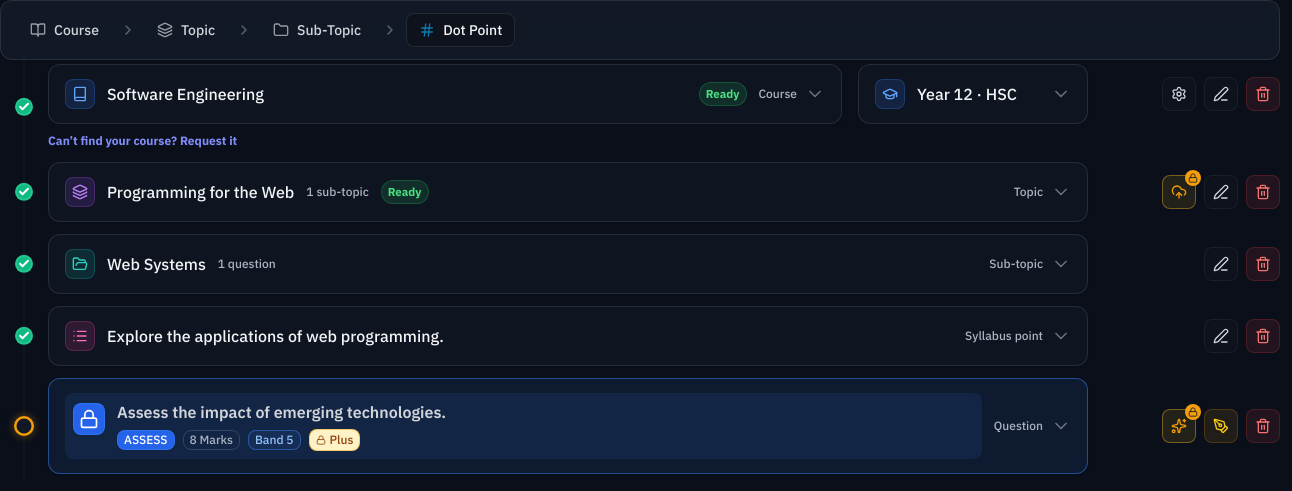
Test: the cleared-question notice, driven from the breadcrumb › names the level the Course crumb returns to
Click the button "Course".
click(64, 30)  # box [17, 13, 112, 47]
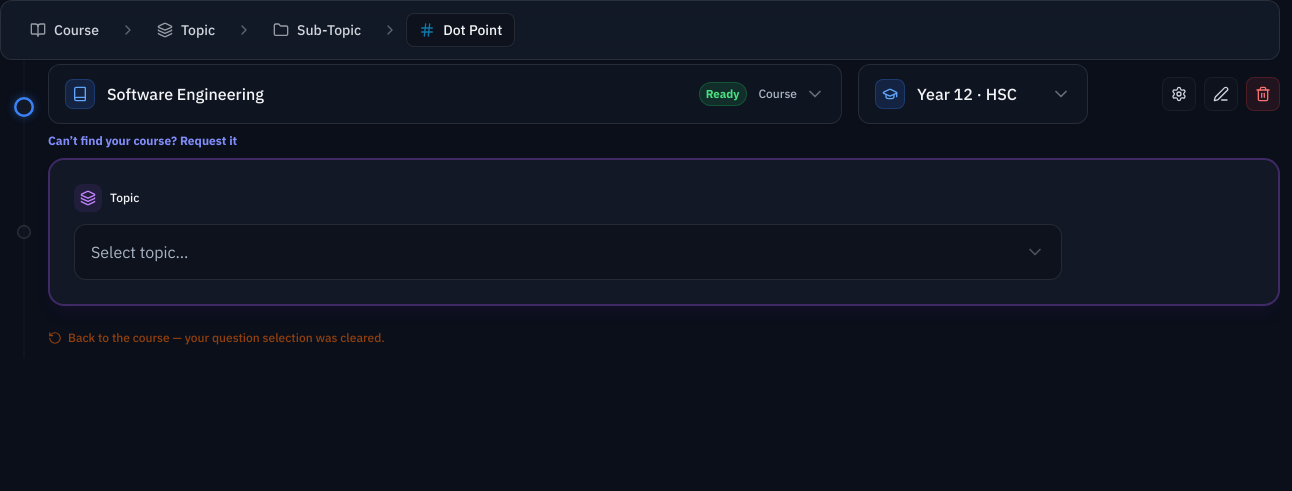
Now the message reads "Back to the course — your question selection was cleared.", box [68, 330, 385, 345]
